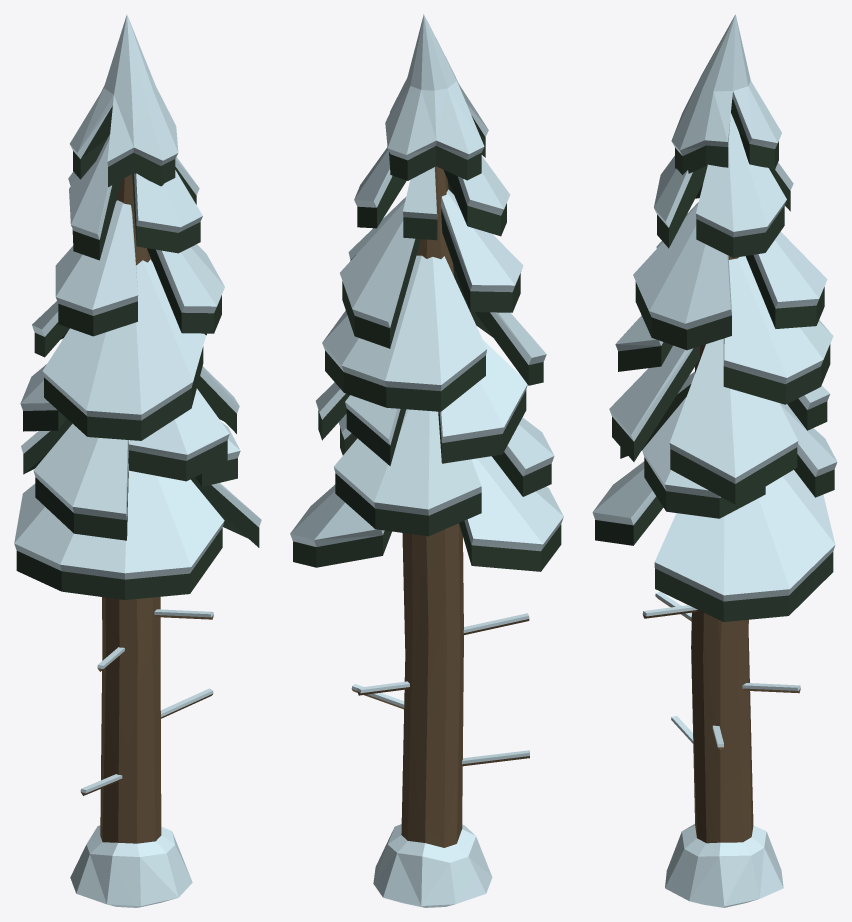
Rendered from Pino_Grande02.glb.
3 views of the same model, side by side, from view 1: azimuth 30°, elevation 25°; view 2: azimuth 150°, elevation 25°; view 3: azimuth 270°, elevation 25° (orthographic).
Parts seen in each view (by area): view 1: SM_Env_Tree_Pine_Large_02_Snow; view 2: SM_Env_Tree_Pine_Large_02_Snow; view 3: SM_Env_Tree_Pine_Large_02_Snow.
Boxes of the visible parts, x1,y1,x2,y2 form: SM_Env_Tree_Pine_Large_02_Snow: [14, 14, 261, 907]; SM_Env_Tree_Pine_Large_02_Snow: [290, 14, 563, 907]; SM_Env_Tree_Pine_Large_02_Snow: [592, 14, 837, 907].
Bounding box in the file's own units: 2.06 × 7.43 × 1.86.
Materials: 1 (1 with a texture image).
